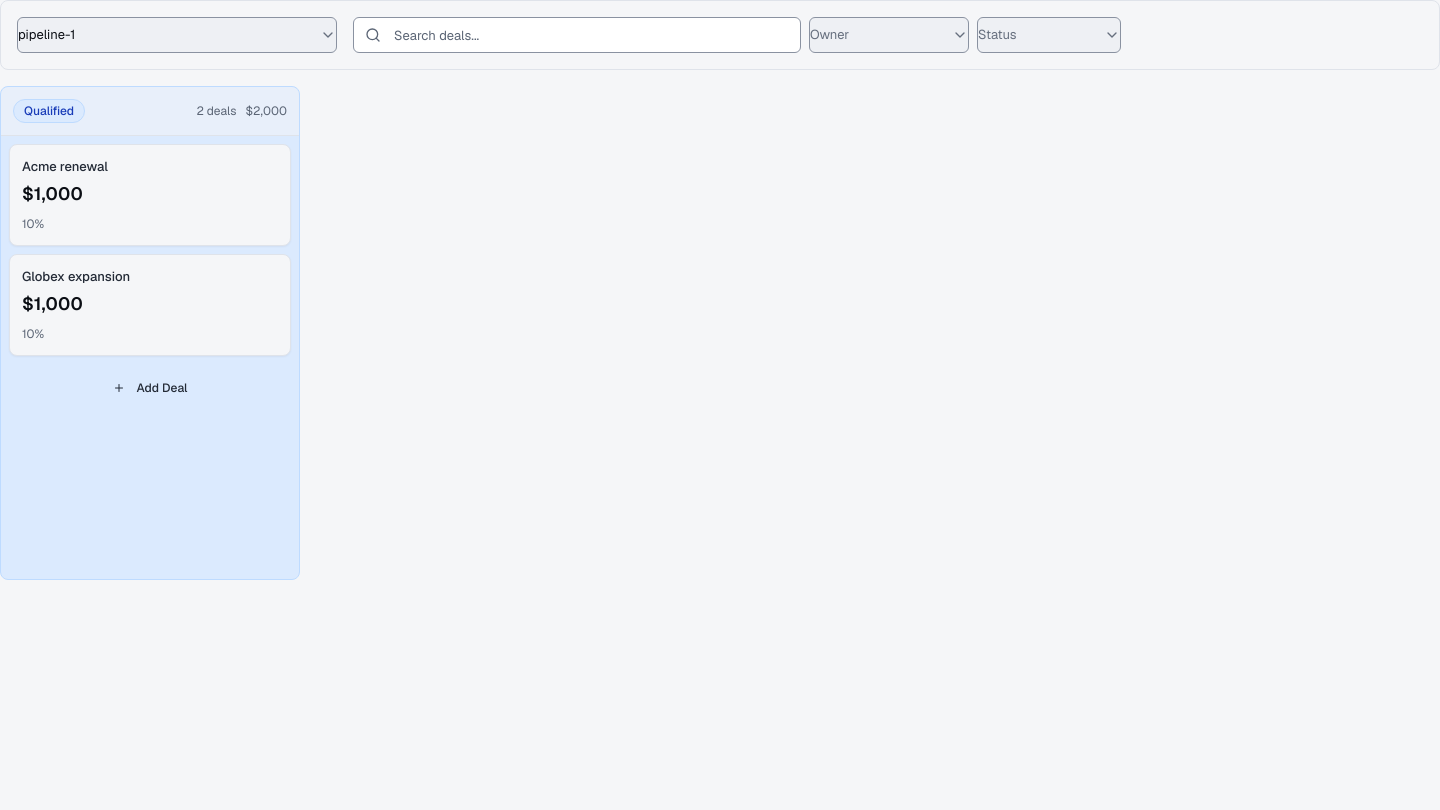
Test case: filtering › offers no owners to filter by yet
Click the dropdown "Owner" at x=889, y=35, box [809,17,969,53]
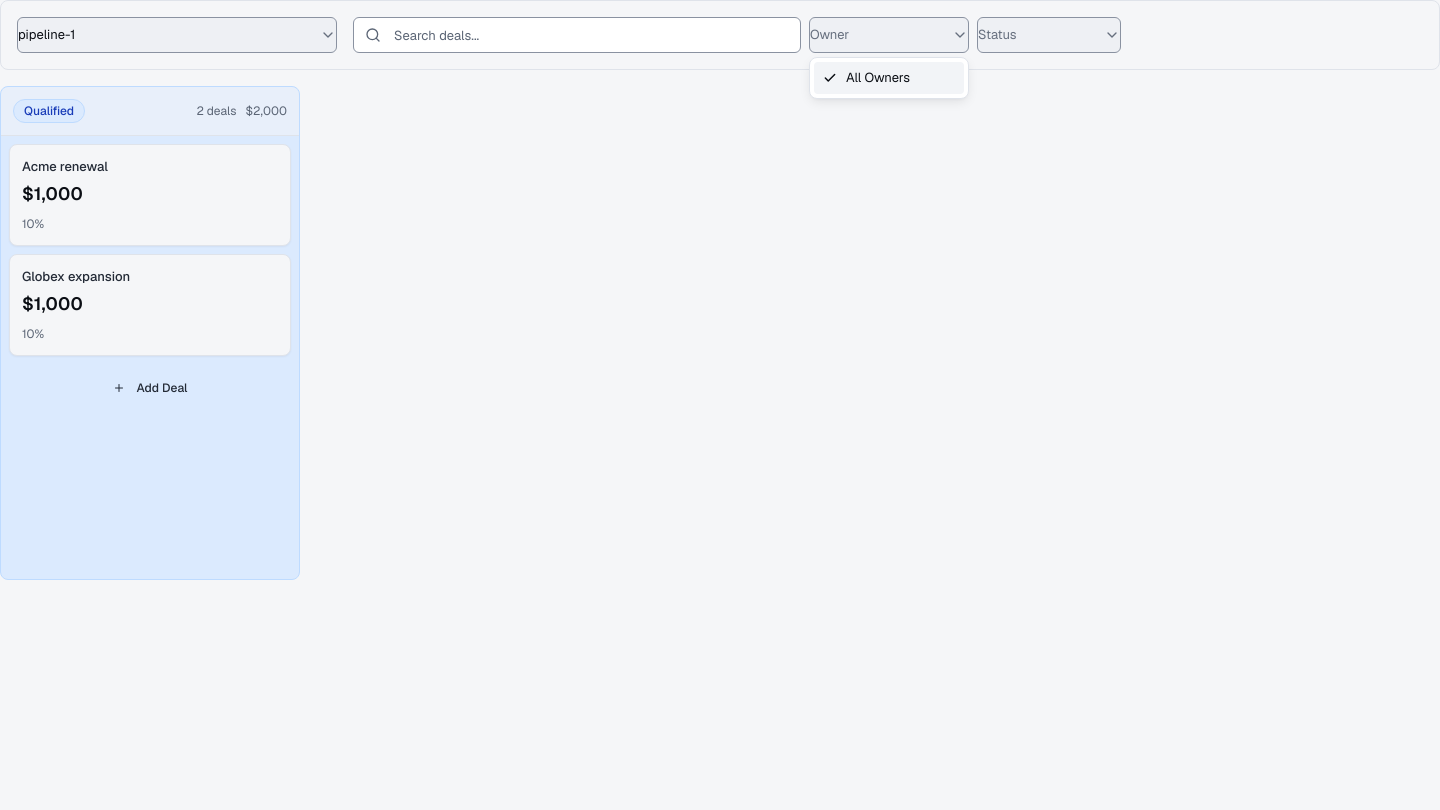
expect the options read "All Owners", in this order: met, box [814,62,964,94]
